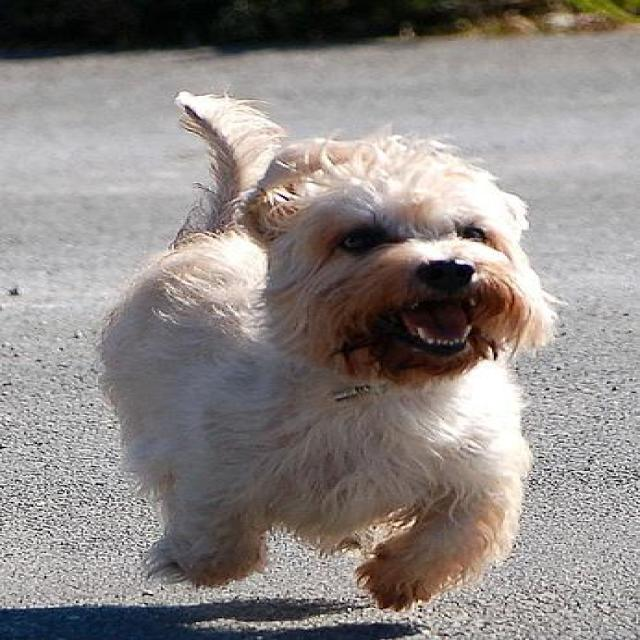dandie_dinmont: (85, 89, 568, 612)
